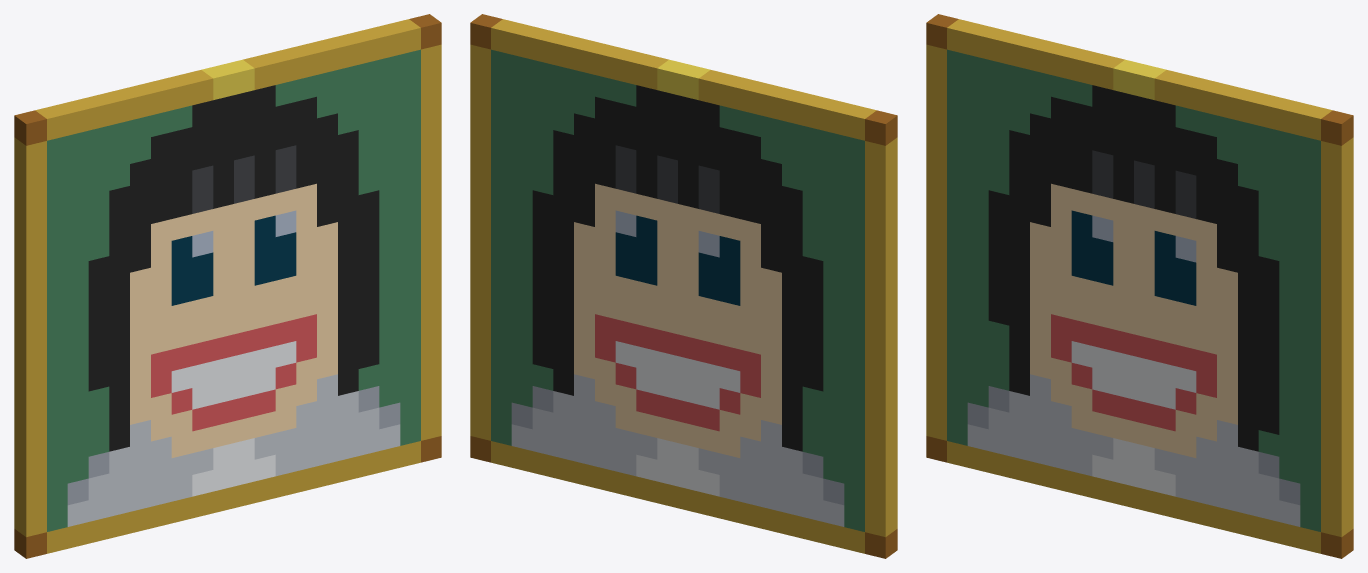
The model's file is portrait1.obj.
3 views of the same model, side by side, from view 1: azimuth 30°, elevation 25°; view 2: azimuth 150°, elevation 25°; view 3: azimuth 330°, elevation 25° (orthographic).
Bounding box in the file's own units: 2 × 2 × 0.1.
Materials: 1 (1 with a texture image).
